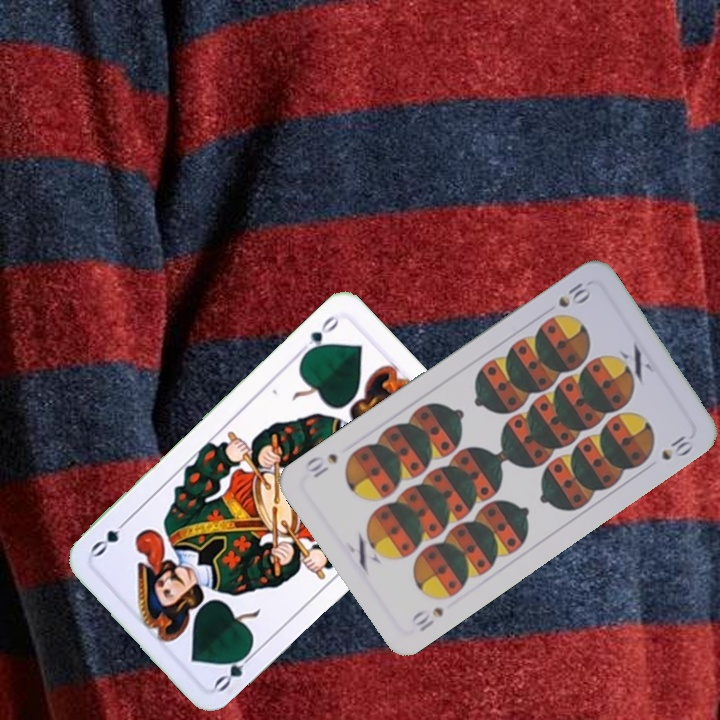GO: (210, 643, 259, 694), (294, 311, 342, 360)
S10: (554, 278, 594, 310), (407, 603, 447, 634)
